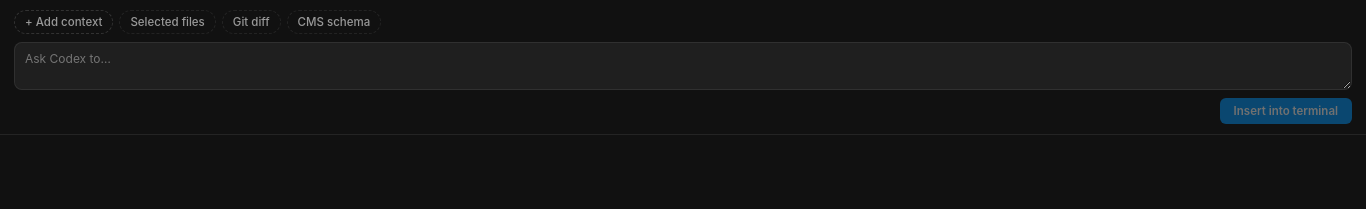
Test: ContextChipBar › offers Current file only when a file is open, and adds it as a ready chip
The image size is (1366, 209).
Step 1. Click the button "+ Add context" → [64, 22], box [14,10,113,34]
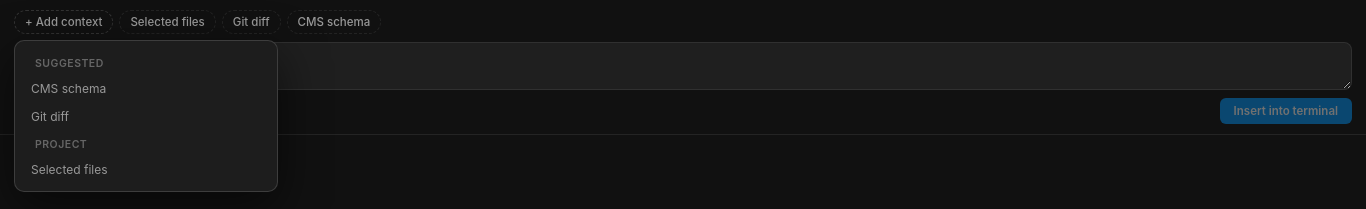
Expected: the text "Selected files" is shown, [31,162,108,176]
